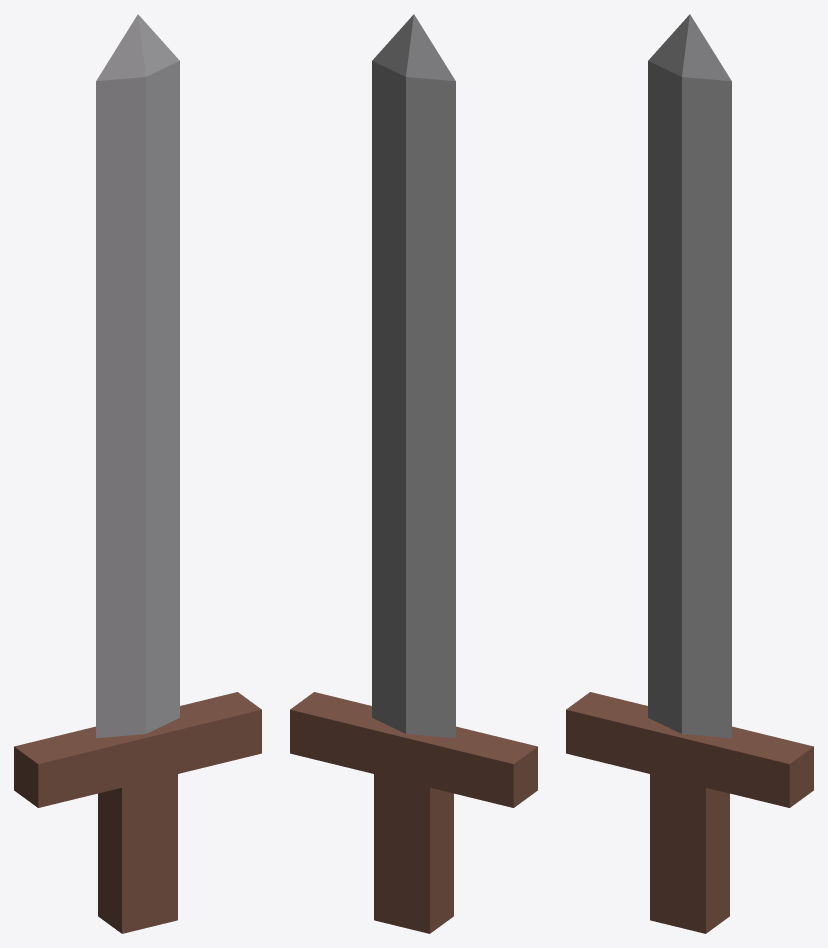
Rendered from DPS.fbx.
The picture shows the model from 3 angles, left to right: view 1: azimuth 30°, elevation 25°; view 2: azimuth 150°, elevation 25°; view 3: azimuth 330°, elevation 25°; orthographic projection.
Parts seen in each view (by area): view 1: Model; view 2: Model; view 3: Model.
Boxes of the visible parts, x1,y1,x2,y2 form: Model: [14, 14, 261, 933]; Model: [290, 14, 537, 933]; Model: [566, 14, 813, 933].
Size of the model in its own units: 16 by 61.8 by 3.
